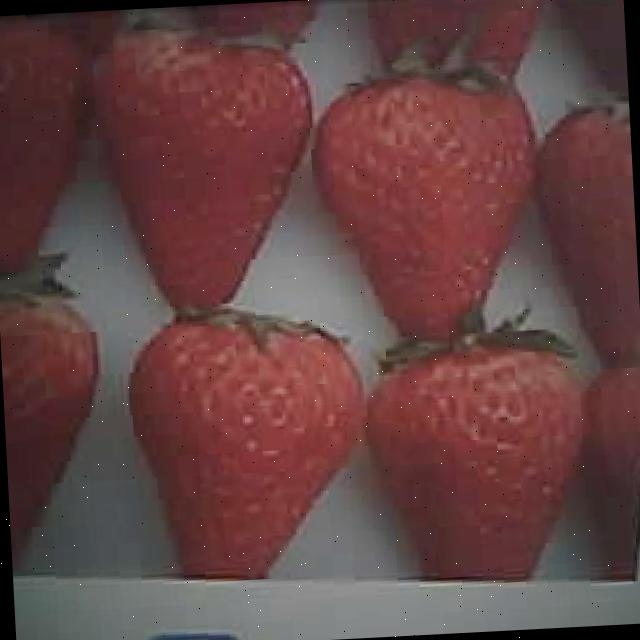strawberry: (125, 297, 368, 594), (94, 38, 323, 312), (361, 332, 592, 600), (316, 72, 542, 343)
